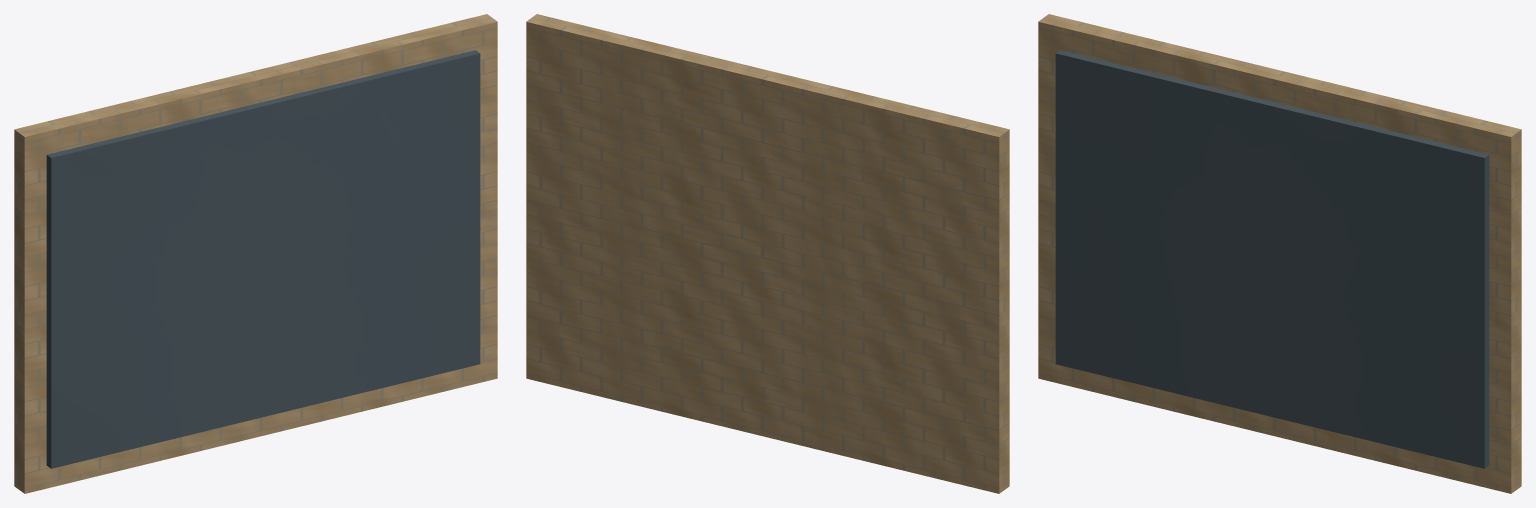
Rendered from window-paired-sash.lod2.gltf.
3 views of the same model, side by side, from view 1: azimuth 30°, elevation 25°; view 2: azimuth 150°, elevation 25°; view 3: azimuth 330°, elevation 25° (orthographic).
Visible parts, largest first — view 1: window-paired-sash; view 2: window-paired-sash; view 3: window-paired-sash.
Part boxes in pixels (<box>): window-paired-sash: <box>14,14,497,493</box>; window-paired-sash: <box>526,14,1009,493</box>; window-paired-sash: <box>1038,14,1521,493</box>.
Bounding box in the file's own units: 2.58 × 1.86 × 0.1425.
Materials: 2 (2 with a texture image).
